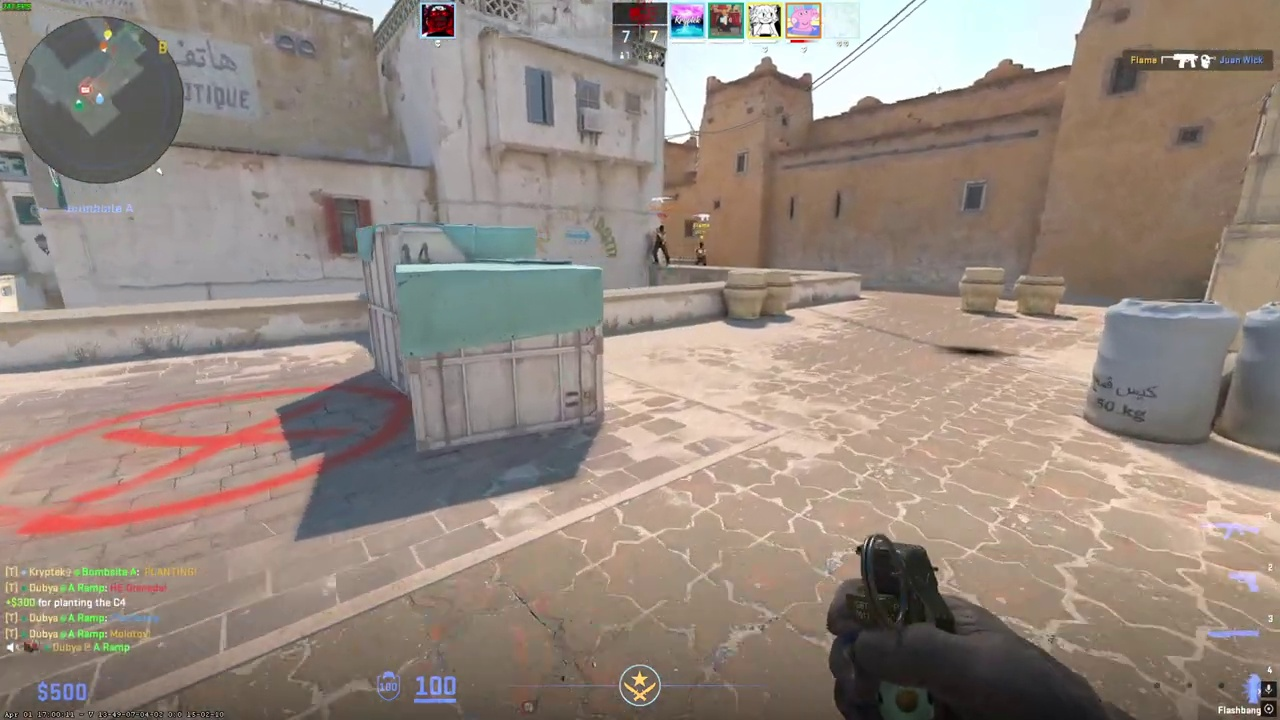Terrorist: (652, 225, 670, 266), (695, 242, 707, 266)
